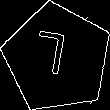L_S: (38, 31, 77, 85)
